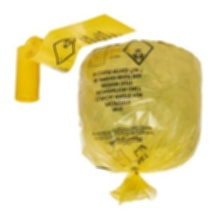plastic_bag: (67, 34, 212, 212), (20, 11, 136, 75), (8, 41, 48, 111)
